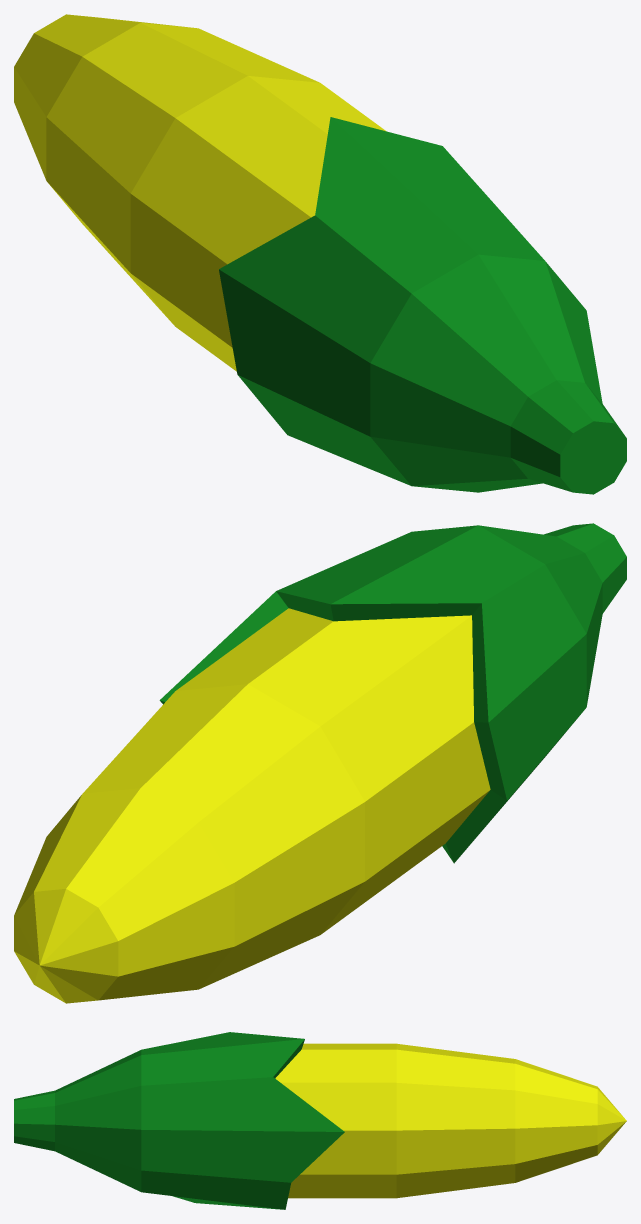
The model's file is corn2.FBX.
3 views of the same model, one above another, from view 1: azimuth 30°, elevation 25°; view 2: azimuth 150°, elevation 25°; view 3: azimuth 270°, elevation 25° (orthographic). The views are drawn at different scales.
Parts seen in each view (by area): view 1: Object001; view 2: Object001; view 3: Object001.
Boxes of the visible parts, x1,y1,x2,y2 form: Object001: (14,14,626,494); Object001: (14,523,626,1003); Object001: (14,1032,626,1209).
Bounding box in the file's own units: 7.87 × 8.28 × 28.
